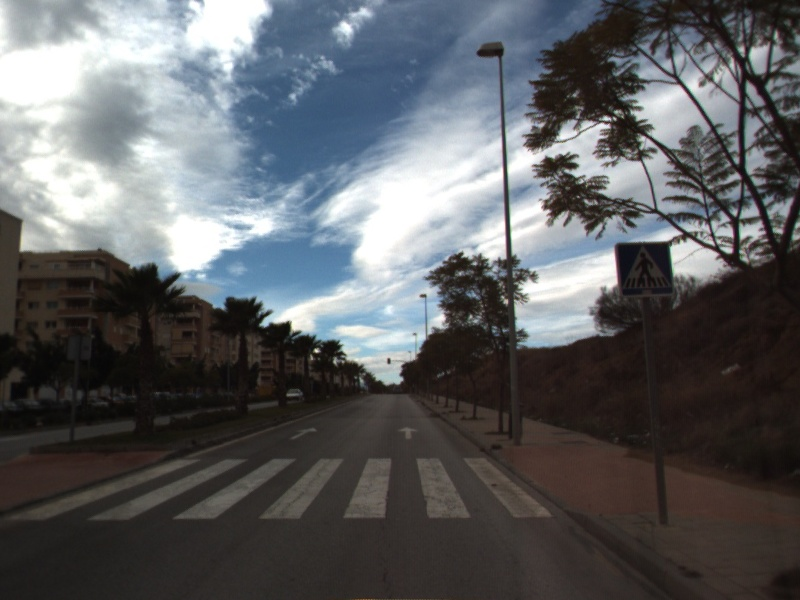STRAIGHT: (287, 425, 320, 442), (396, 424, 420, 441)
